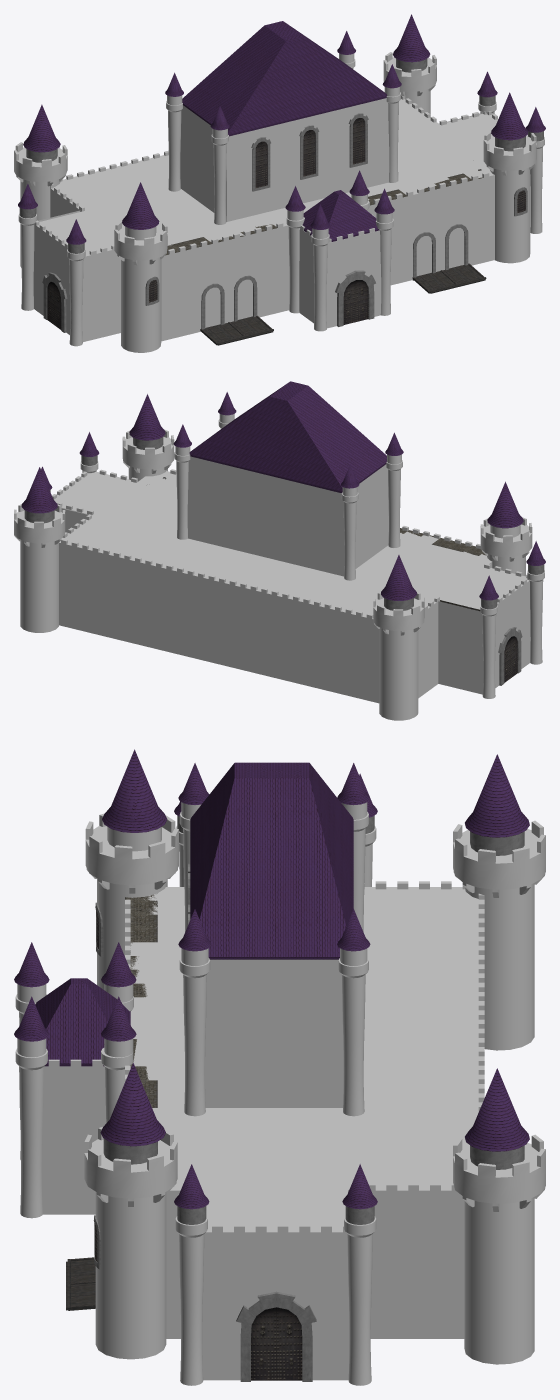
File: Castle03.FBX
3 renders of one model, top to bottom at view 1: azimuth 30°, elevation 25°; view 2: azimuth 150°, elevation 25°; view 3: azimuth 270°, elevation 25°, orthographic. The views are drawn at different scales.
Parts seen in each view (by area): view 1: Plane2102; view 2: Plane2102; view 3: Plane2102.
Boxes of the visible parts, x1,y1,x2,y2 form: Plane2102: (14, 14, 545, 352); Plane2102: (14, 381, 545, 720); Plane2102: (14, 749, 545, 1385).
Size of the model in its own units: 3758 by 1812 by 2084.
